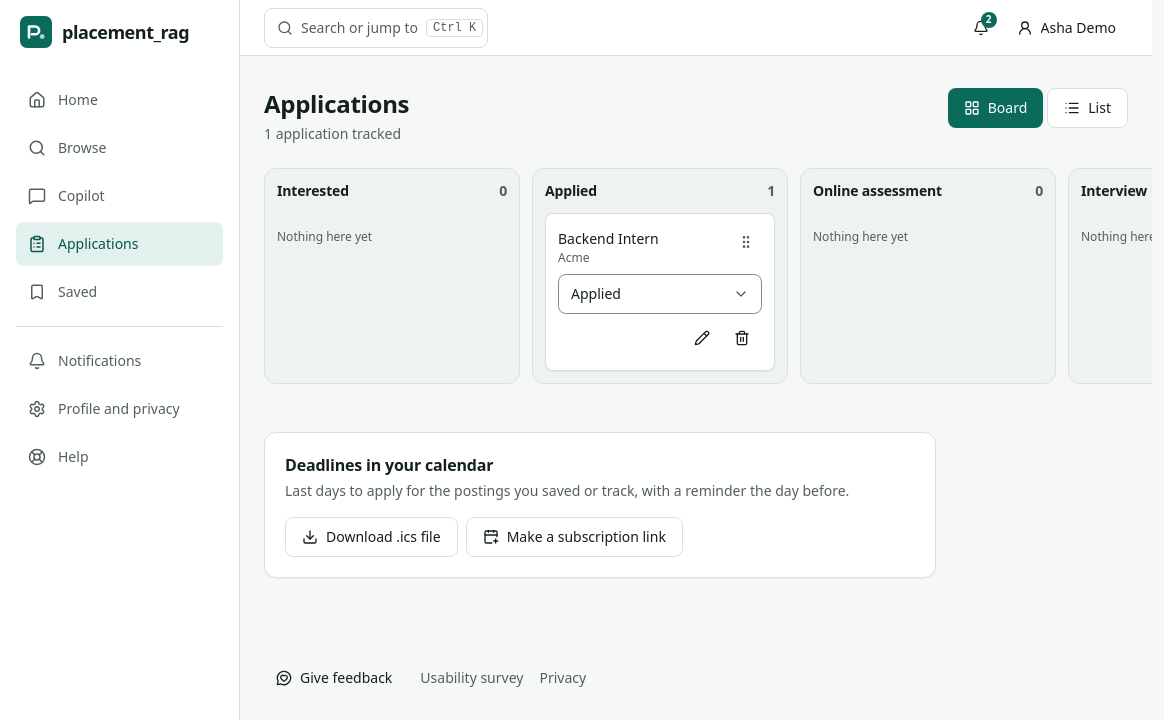
Test: student portal › undoes a stage change from the toast
The width and height of the screenshot is (1164, 720).
Later steps or results of the test are not shown.
Click the button "List" at (1088, 108), box left=1047, top=88, right=1128, bottom=128
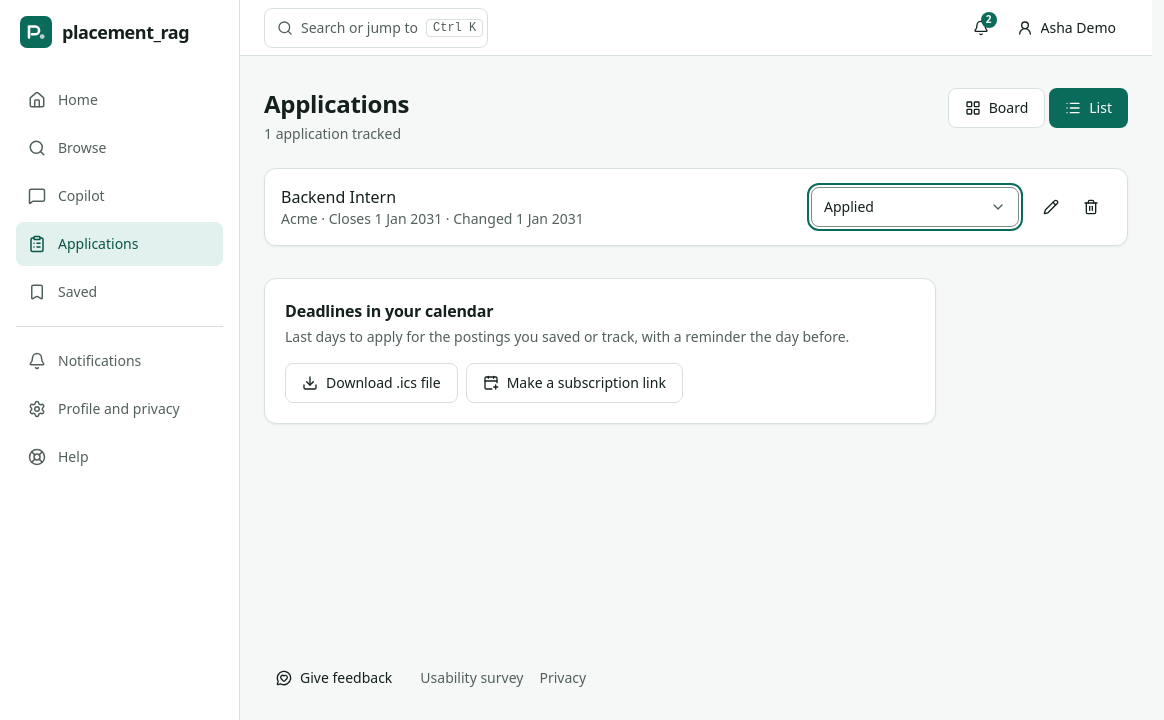
Press Enter
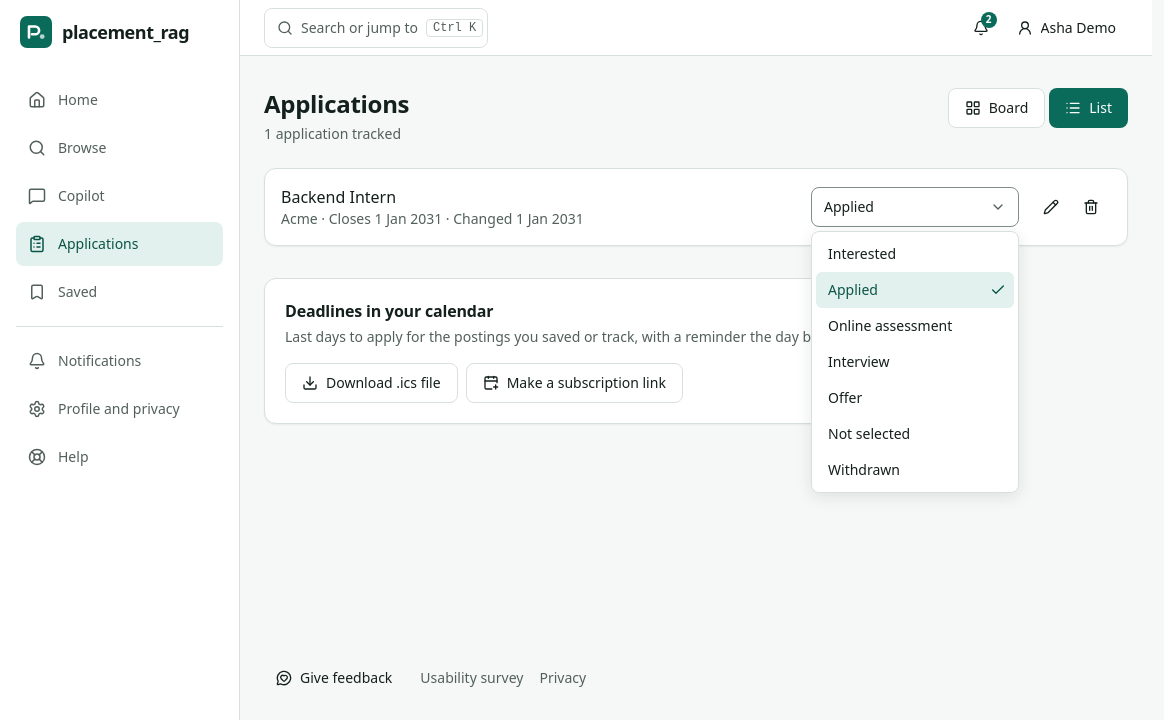
Click the option "Interview" at (859, 362), box left=828, top=352, right=890, bottom=371
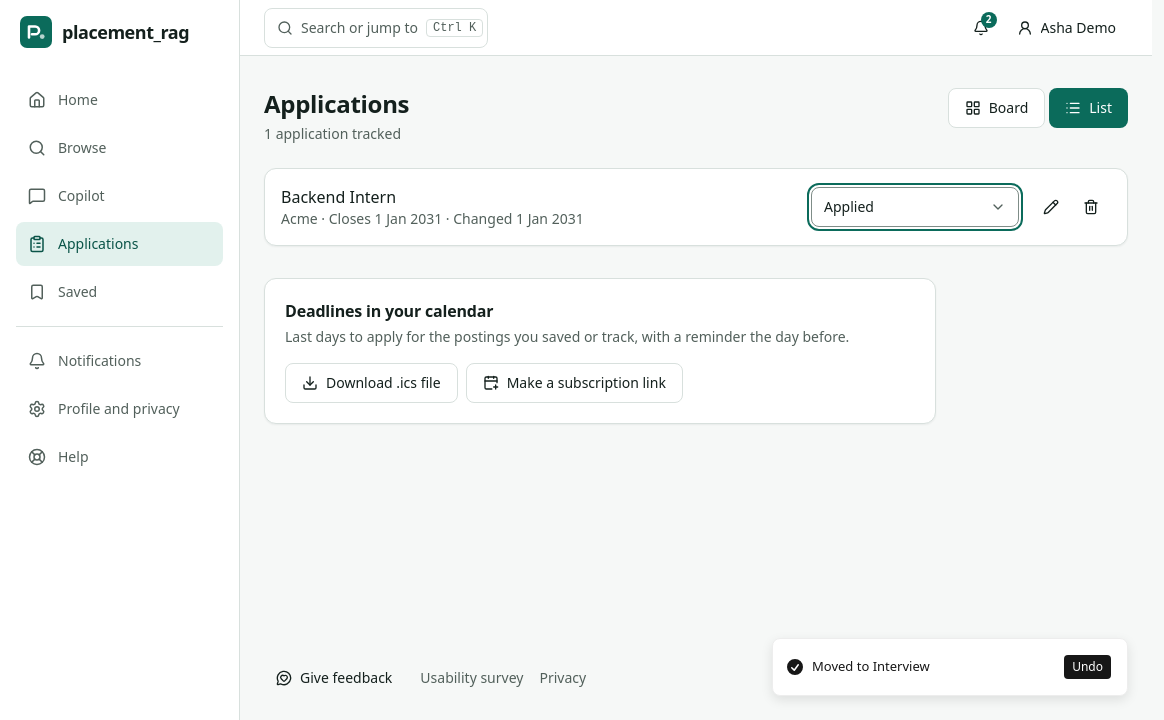
expect the text "Moved to Interview" is shown: met, box left=812, top=657, right=930, bottom=677
